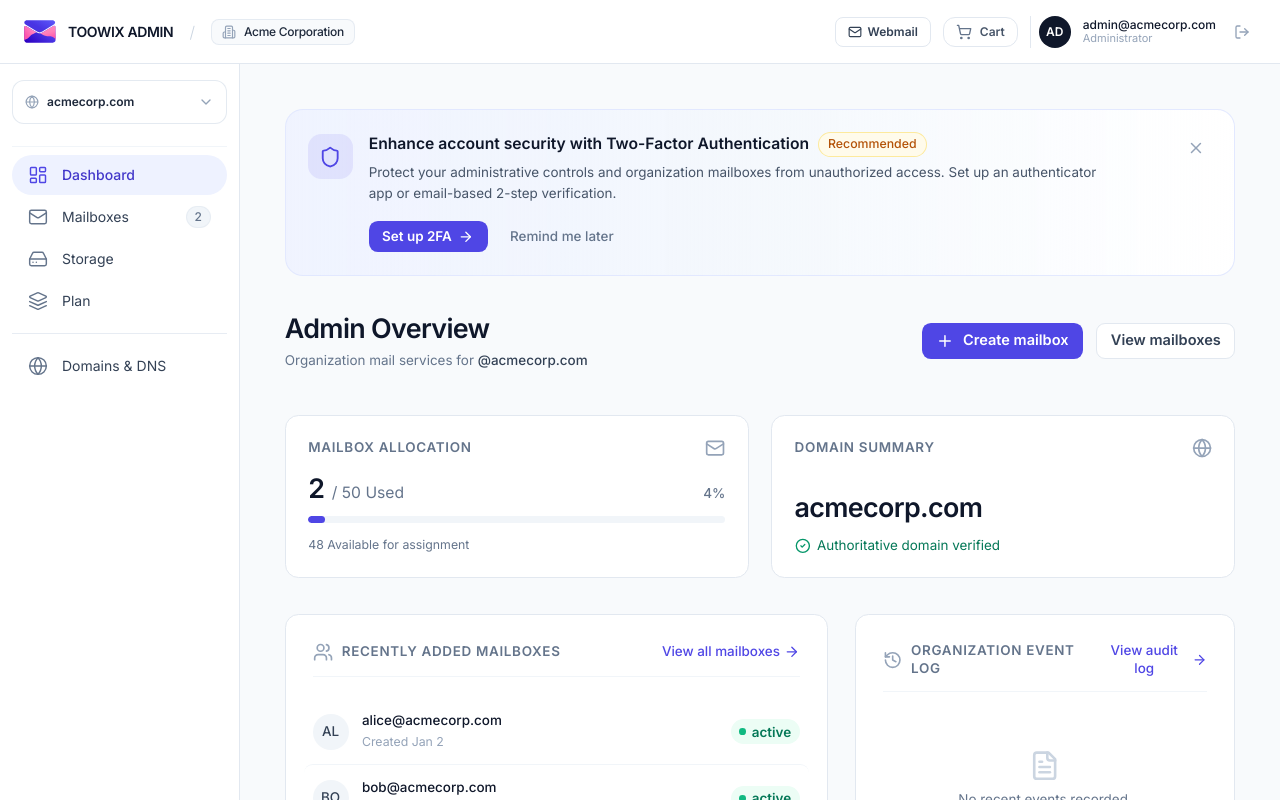
Test: TenantAdminDashboard Component › allows suspending an active mailbox via three-dots menu
Expected: the heading "Admin Overview" is shown, [285, 312, 490, 344]
What coordinates should you click on to do the following:
click the button "View all mailboxes"
I would click on:
 (731, 652)
Its box is [662, 643, 800, 661].
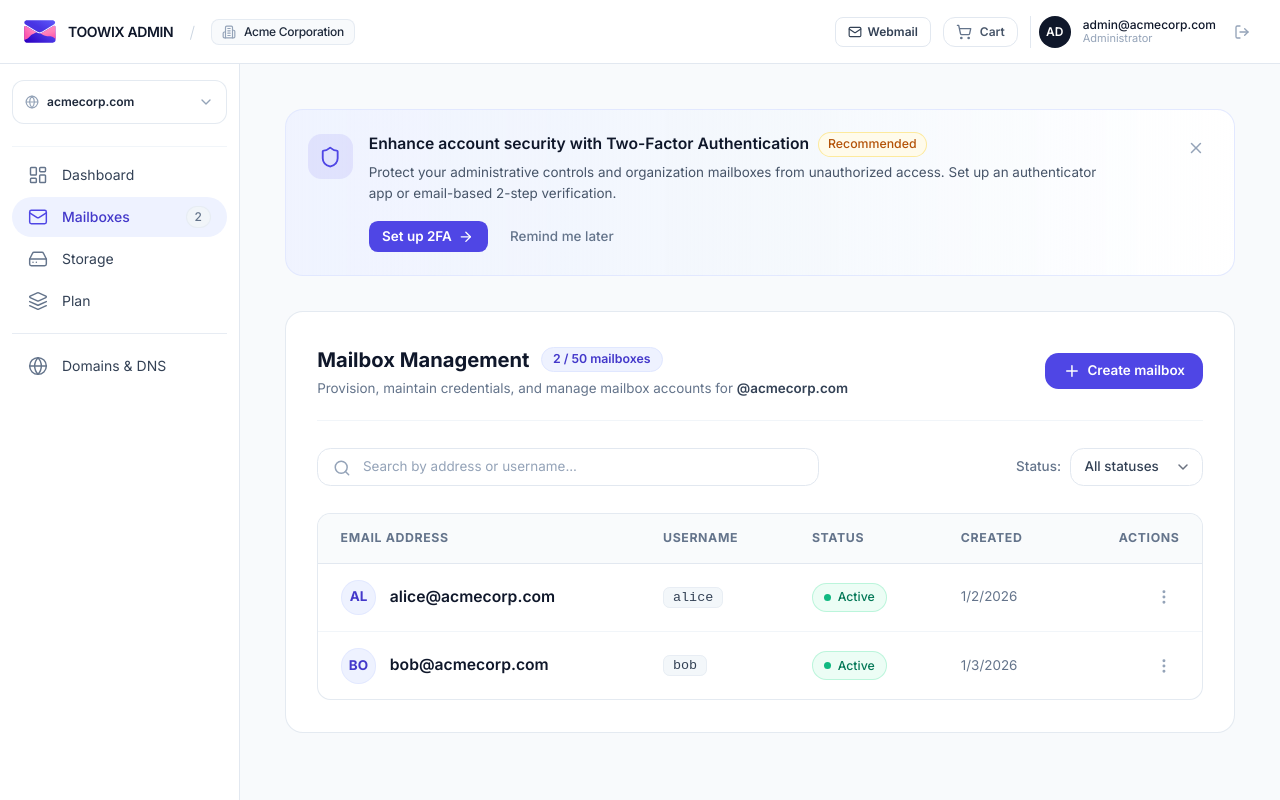
// Find three-dots actions button
What coordinates should you click on to do the following:
click the button named "mailbox actions" in the row of "alice@acmecorp.com"
I would click on:
 (1164, 597)
Its box is [1148, 582, 1179, 613].
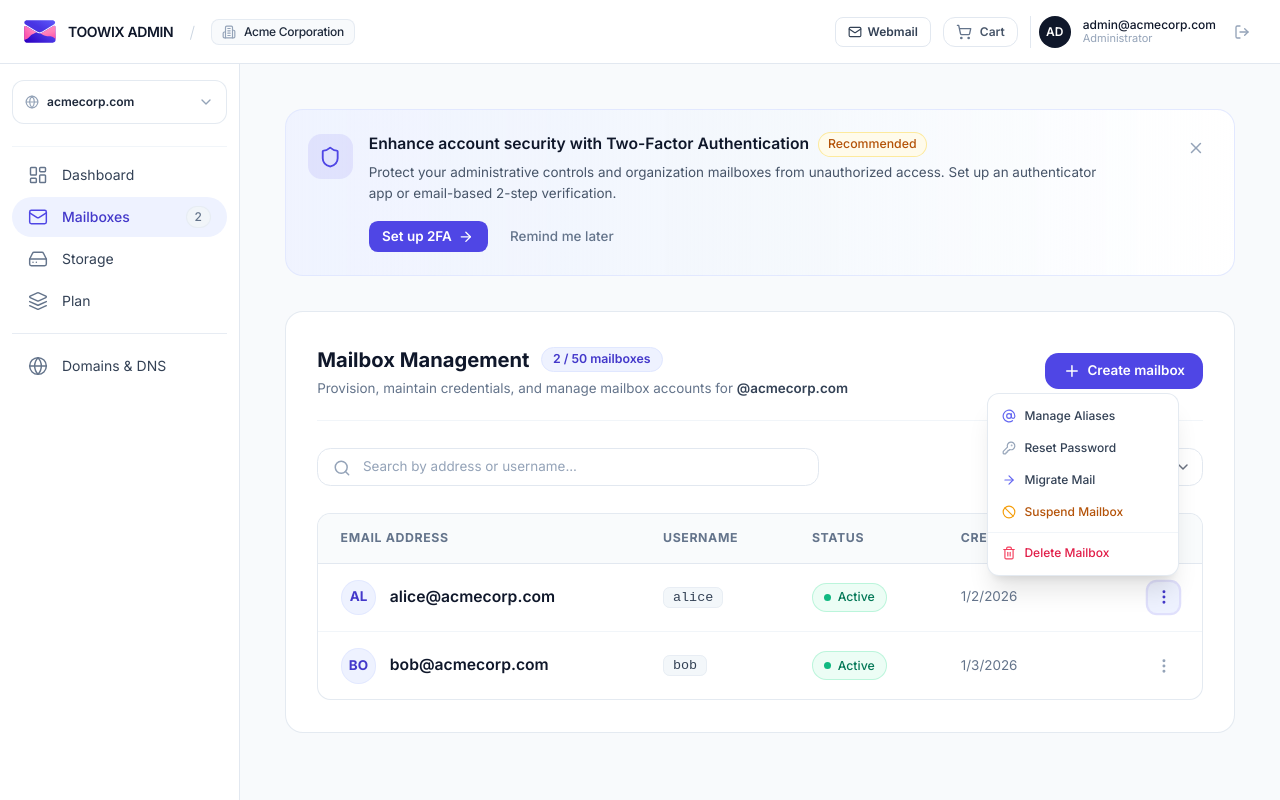
// Click Suspend Mailbox from menu
What coordinates should you click on to do the following:
click the button "Suspend Mailbox"
I would click on:
 (1084, 512)
Its box is [988, 496, 1178, 528].
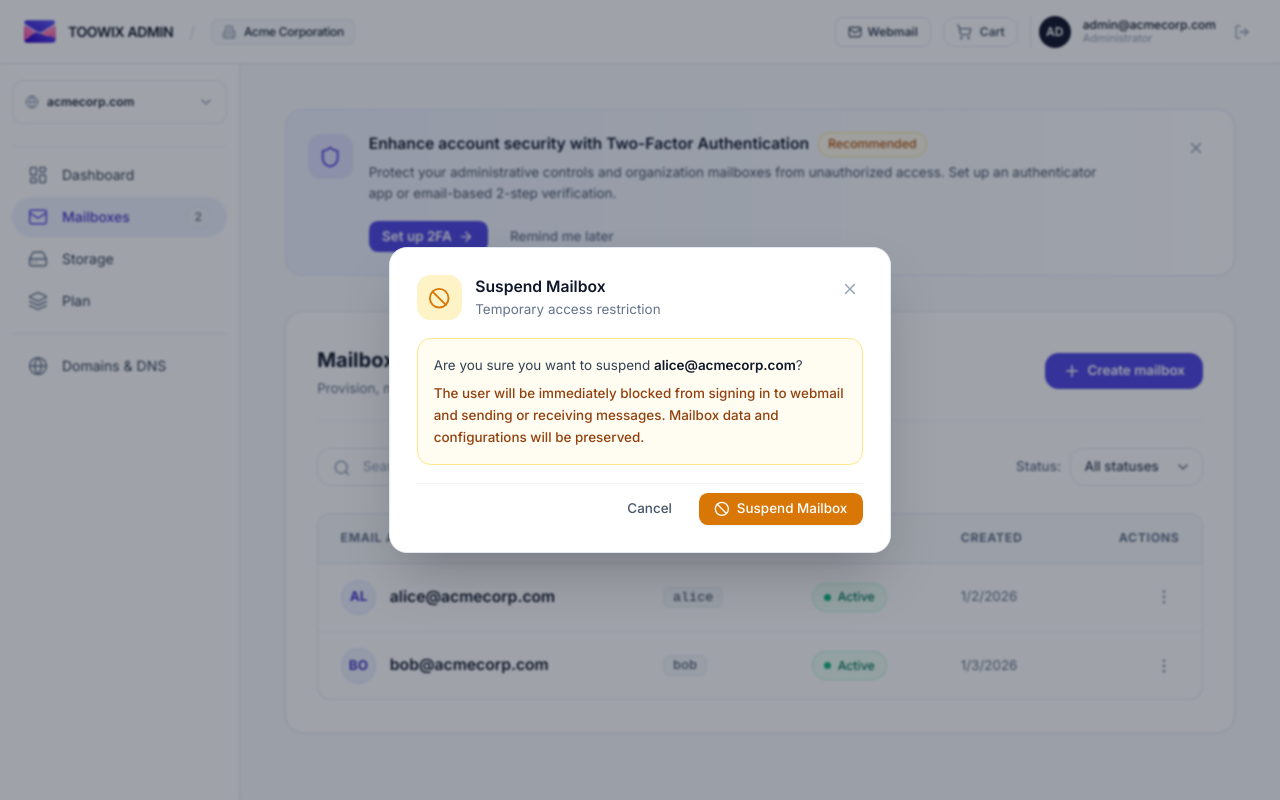
Expected: the dialog is shown
Expected: the heading "Suspend Mailbox" is shown, [475, 278, 606, 296]
Expected: the text "alice@acmecorp.com" is shown, [654, 357, 796, 373]
// Confirm suspend
What coordinates should you click on to do the following:
click the button "Suspend Mailbox"
I would click on:
 (781, 509)
Its box is [699, 493, 863, 525].
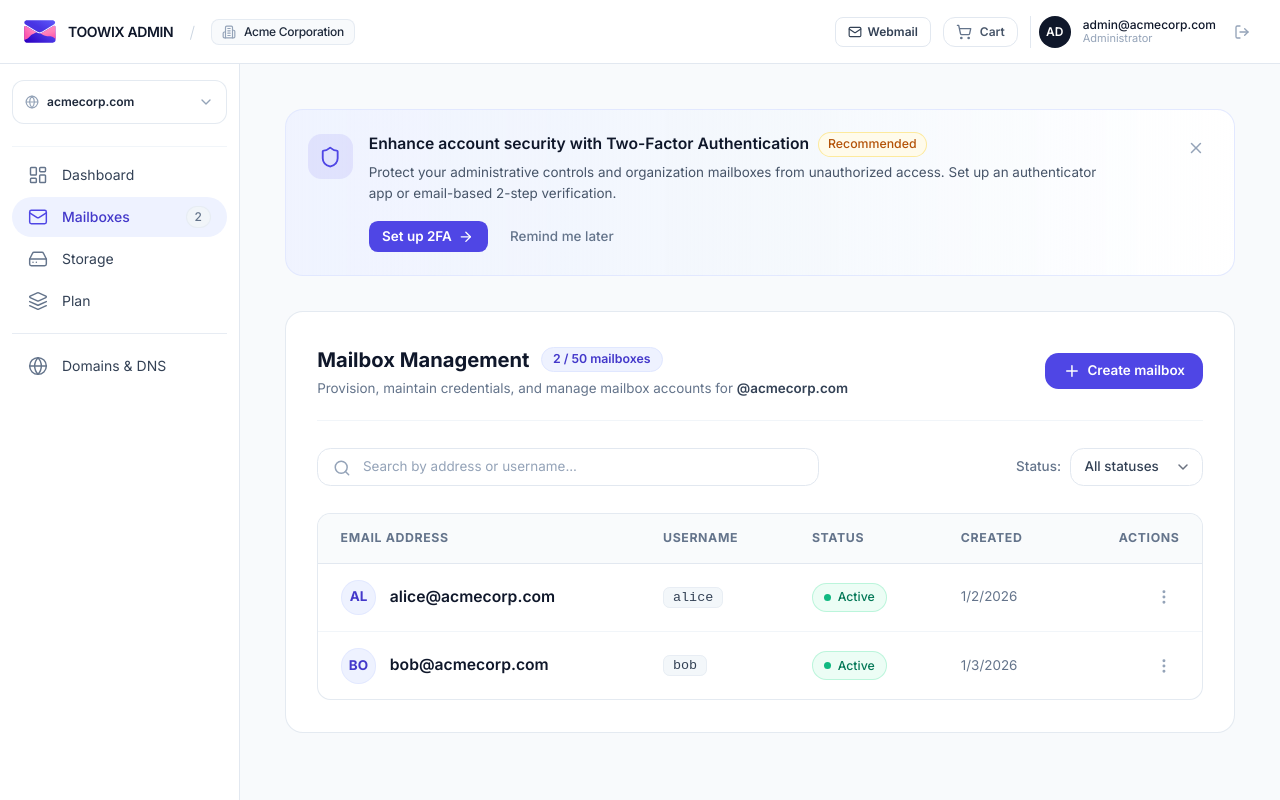
Expected: the dialog is gone
